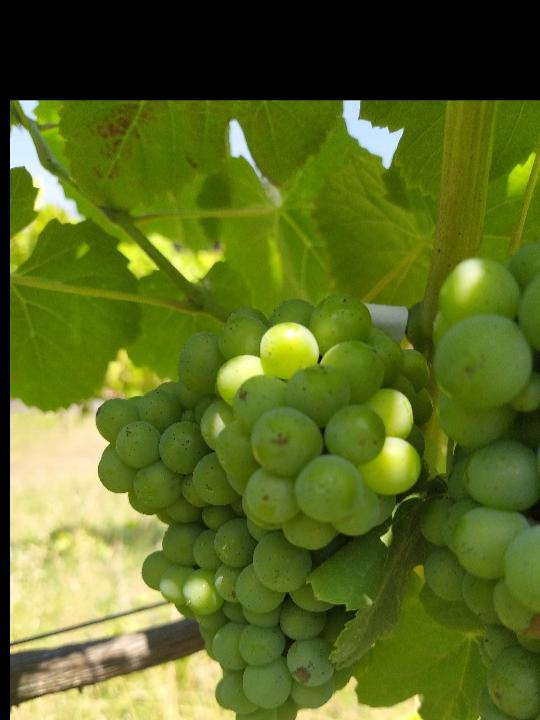grape: (95, 290, 435, 720)
